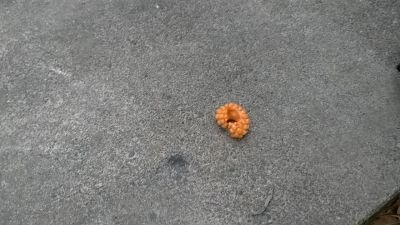eggs: (214, 101, 252, 140)
